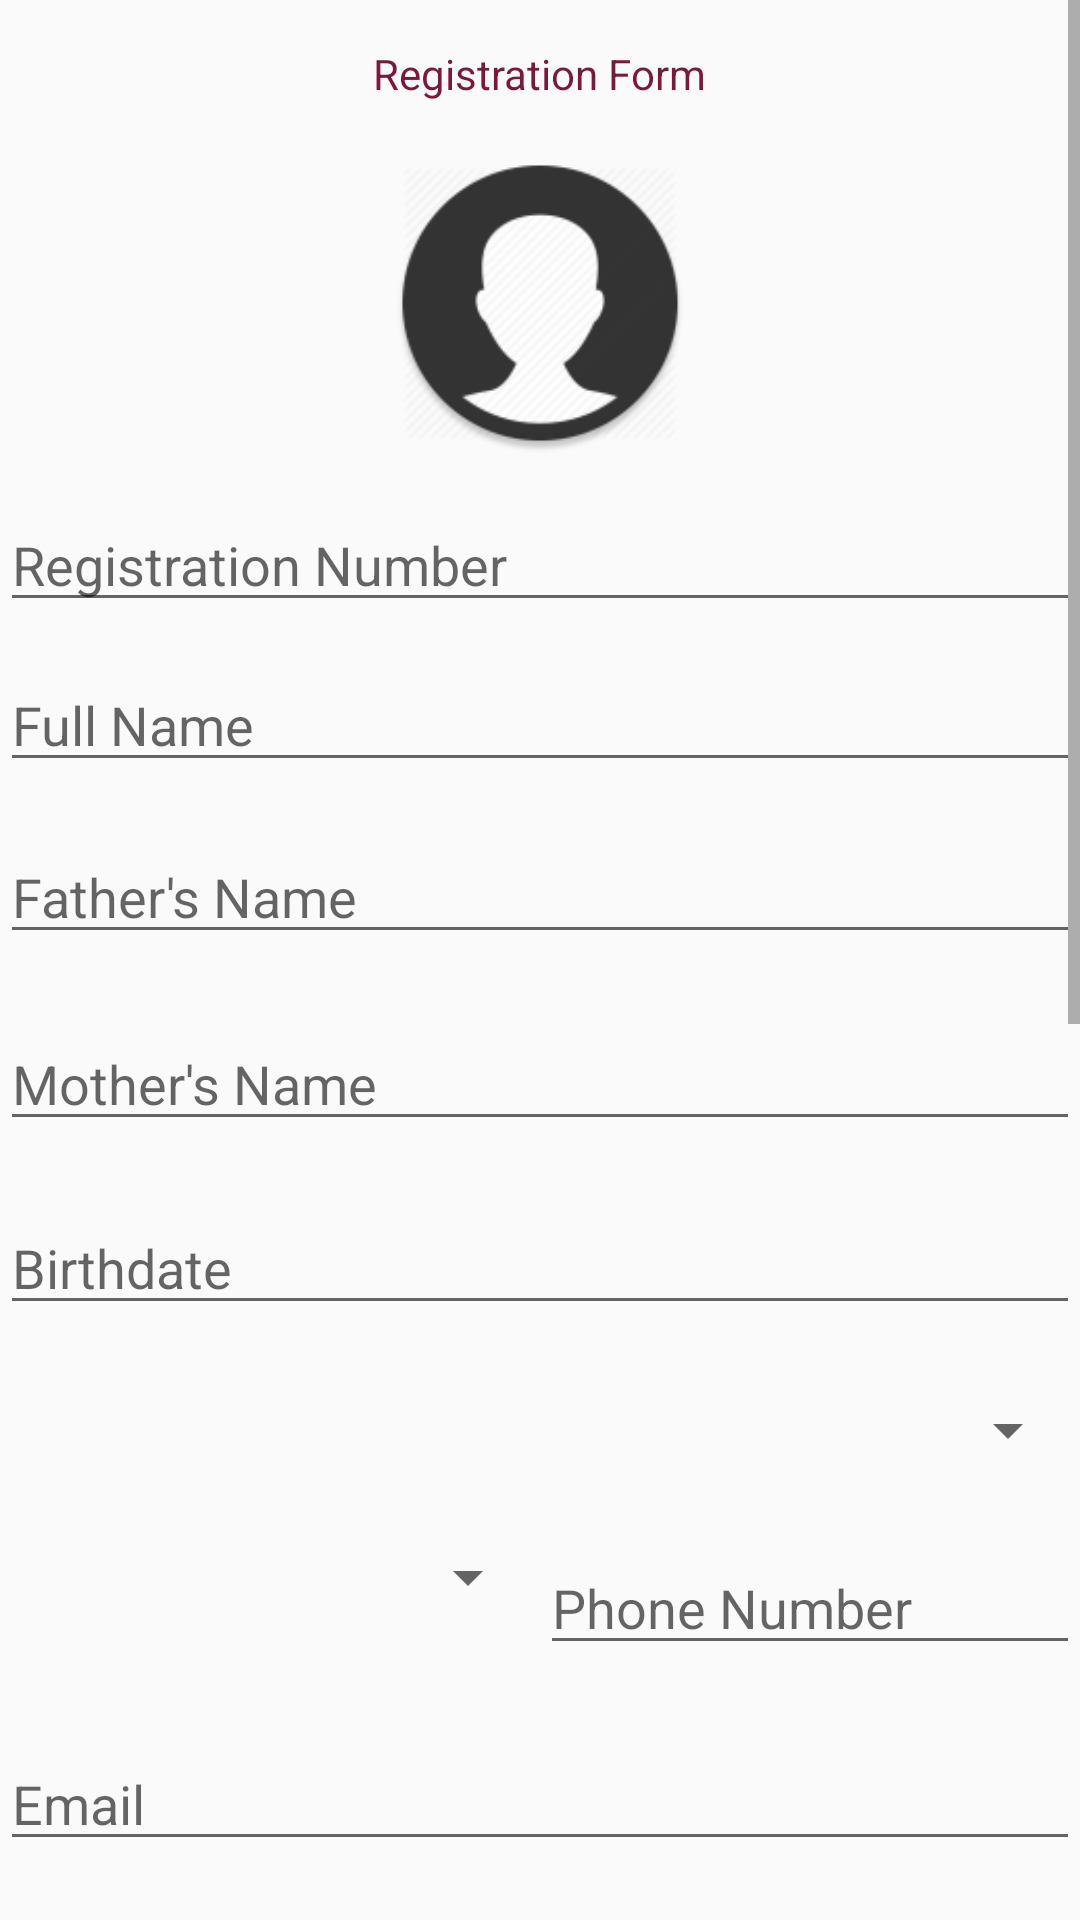

Icon click points for this 1080px×1920px phone screenshot, format (x=x, y=y):
student profile: (x=540, y=306)
